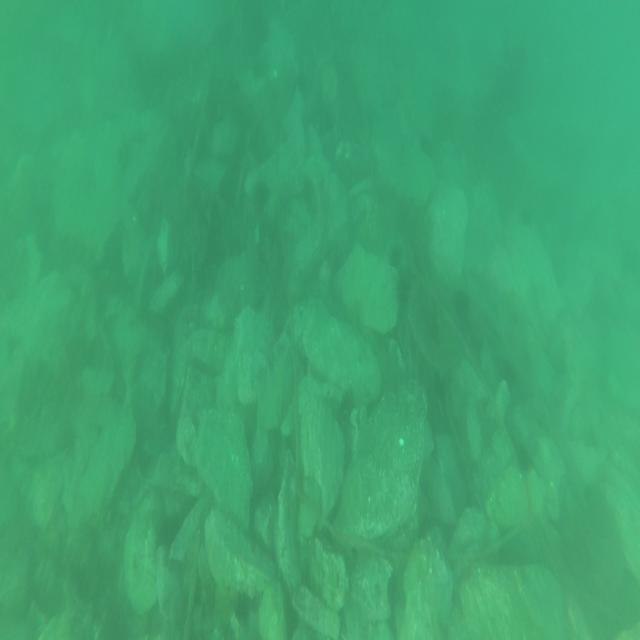echinus: (250, 180, 271, 222), (231, 587, 251, 623), (450, 288, 469, 320), (388, 240, 404, 272), (395, 268, 410, 301)
